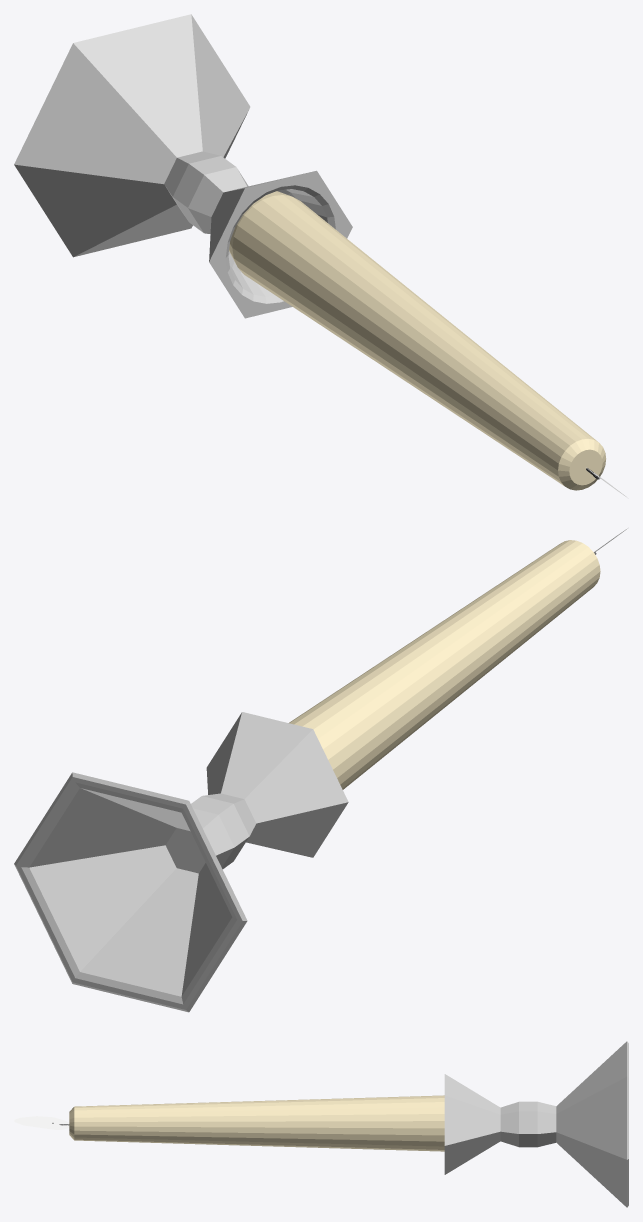
3 renders of one model, top to bottom at view 1: azimuth 30°, elevation 25°; view 2: azimuth 150°, elevation 25°; view 3: azimuth 270°, elevation 25°, orthographic. The views are drawn at different scales.
Parts seen in each view (by area): view 1: candle; view 2: candle; view 3: candle.
Part boxes in pixels (left/top/right/bottom): candle: left=14, top=14, right=628, bottom=498; candle: left=14, top=528, right=627, bottom=1012; candle: left=14, top=1041, right=628, bottom=1207.
Bounding box in the file's own units: 3.54 × 3.07 × 13.01.
